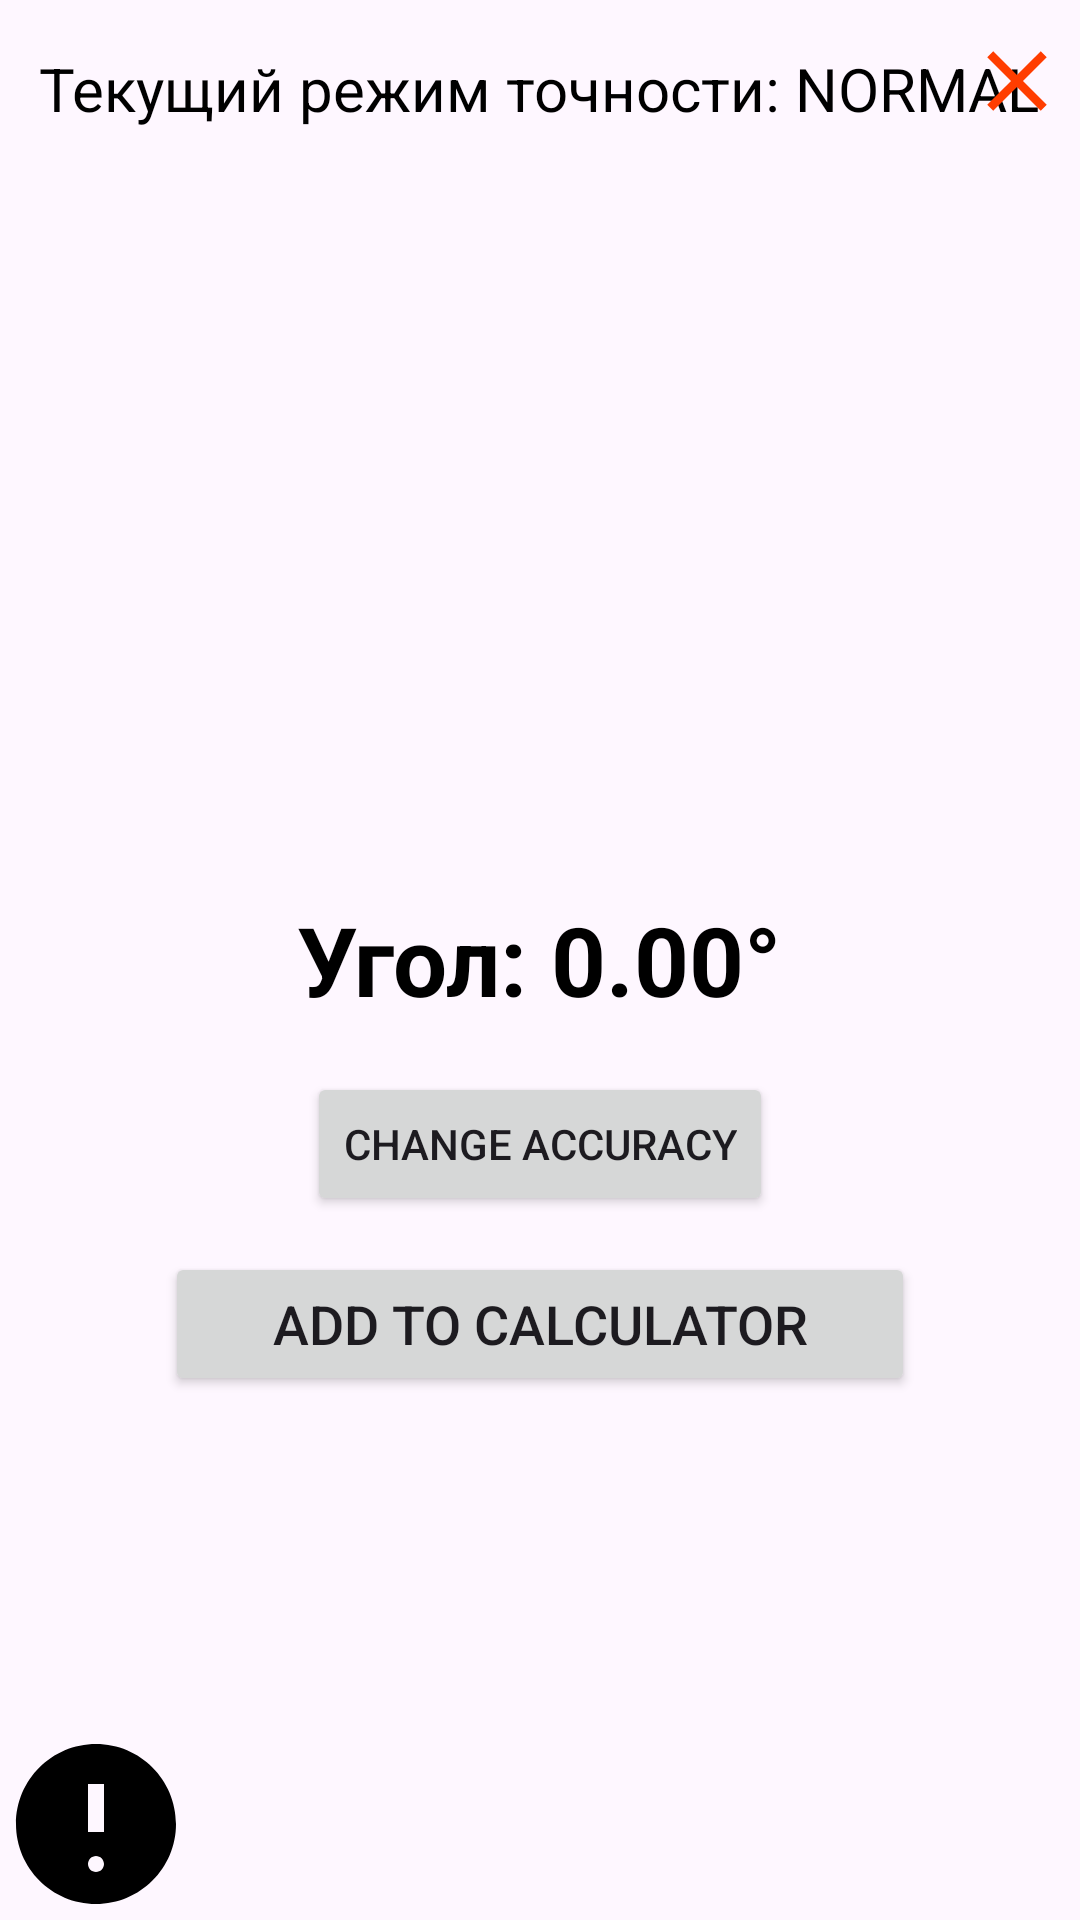

Where to tap for icons on this 1080 × 1920 app screen, as [x,y]:
Информация: [95,1824]
